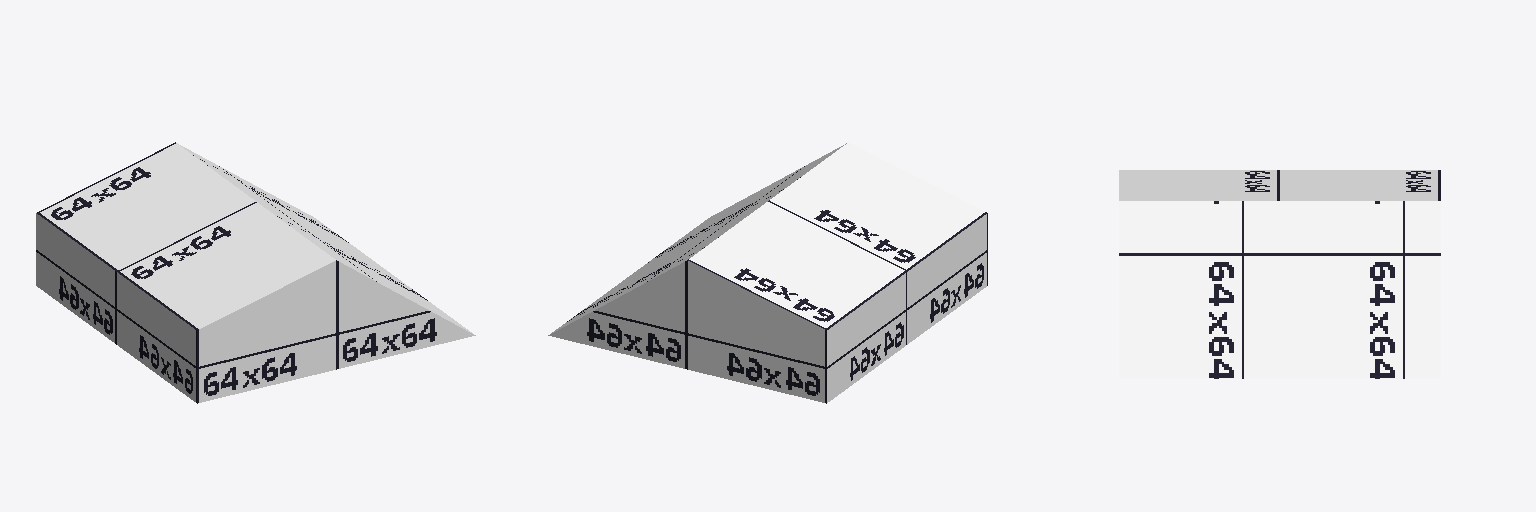
3 views of the same model, side by side, from view 1: azimuth 30°, elevation 25°; view 2: azimuth 150°, elevation 25°; view 3: azimuth 270°, elevation 25° (orthographic).
Parts seen in each view (by area): view 1: entity0_brush0; view 2: entity0_brush0; view 3: entity0_brush0.
Part boxes in pixels (bbox=[...]): entity0_brush0: bbox=[36, 142, 475, 403]; entity0_brush0: bbox=[548, 142, 987, 403]; entity0_brush0: bbox=[1119, 170, 1440, 378].
Bounding box in the file's own units: 128 × 48 × 128.
1 materials, 1 textured.